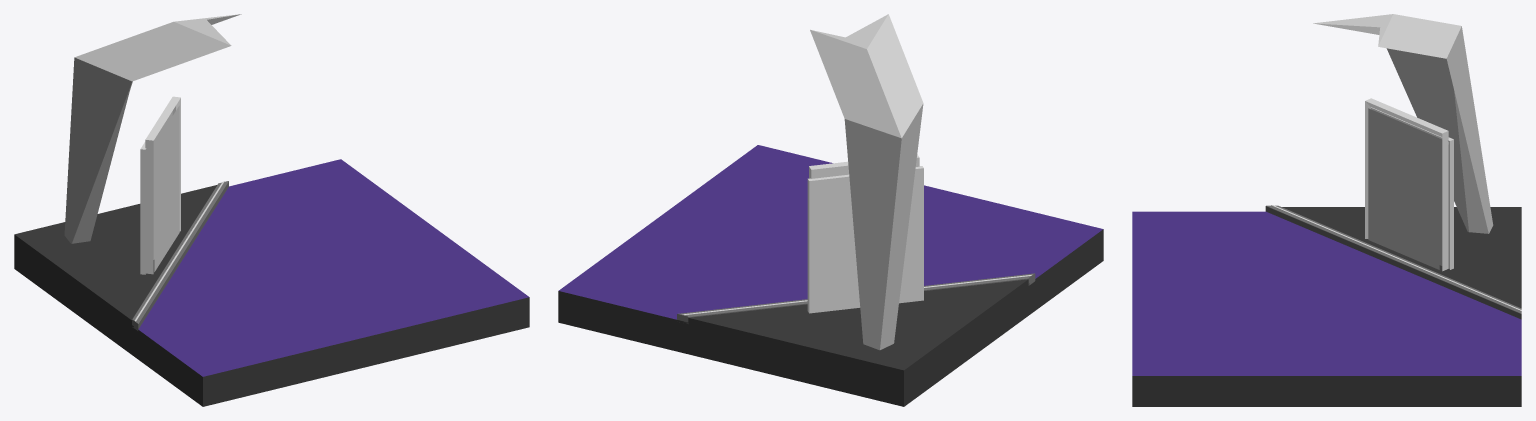
The model's file is curb_7_alternate_corner.fbx.
3 views of the same model, side by side, from view 1: azimuth 30°, elevation 25°; view 2: azimuth 150°, elevation 25°; view 3: azimuth 270°, elevation 25° (orthographic). The views are drawn at different scales.
Parts seen in each view (by area): view 1: Ground 5 - Corner.001, Cube.138, Ground Riser.015, Billboard 2.008|Billboard 1.007|Dupli|2, Billboard 2.008|Billboard 1.005|Dupli|, Curb.014, Billboard 2.008|Billboard 1.006|Dupli|1; view 2: Ground 5 - Corner.001, Cube.138, Ground Riser.015, Billboard 2.008|Billboard 1.006|Dupli|1, Curb.014, Billboard 2.008|Billboard 1.005|Dupli|; view 3: Ground 5 - Corner.001, Cube.138, Billboard 2.008|Billboard 1.007|Dupli|2, Ground Riser.015, Curb.014, Billboard 2.008|Billboard 1.005|Dupli|, Billboard 2.008|Billboard 1.006|Dupli|1, Curb Light.012.
Boxes of the visible parts, left/top/right/bottom form: Ground 5 - Corner.001: left=14, top=159, right=529, bottom=406; Cube.138: left=64, top=14, right=241, bottom=243; Ground Riser.015: left=14, top=185, right=216, bottom=324; Billboard 2.008|Billboard 1.007|Dupli|2: left=154, top=105, right=179, bottom=271; Billboard 2.008|Billboard 1.005|Dupli|: left=145, top=96, right=180, bottom=274; Curb.014: left=132, top=181, right=228, bottom=330; Billboard 2.008|Billboard 1.006|Dupli|1: left=140, top=142, right=146, bottom=274; Ground 5 - Corner.001: left=558, top=145, right=1103, bottom=406; Cube.138: left=810, top=14, right=923, bottom=350; Ground Riser.015: left=688, top=279, right=1028, bottom=374; Billboard 2.008|Billboard 1.006|Dupli|1: left=807, top=166, right=923, bottom=313; Curb.014: left=677, top=273, right=1035, bottom=323; Billboard 2.008|Billboard 1.005|Dupli|: left=809, top=154, right=919, bottom=178; Ground 5 - Corner.001: left=1132, top=211, right=1521, bottom=406; Cube.138: left=1313, top=14, right=1493, bottom=233; Billboard 2.008|Billboard 1.007|Dupli|2: left=1368, top=108, right=1439, bottom=269; Ground Riser.015: left=1282, top=207, right=1521, bottom=308; Curb.014: left=1265, top=205, right=1521, bottom=319; Billboard 2.008|Billboard 1.005|Dupli|: left=1365, top=98, right=1448, bottom=271; Billboard 2.008|Billboard 1.006|Dupli|1: left=1371, top=107, right=1453, bottom=269; Curb Light.012: left=1271, top=205, right=1521, bottom=311.
Bounding box in the file's own units: 800 × 629 × 800.
